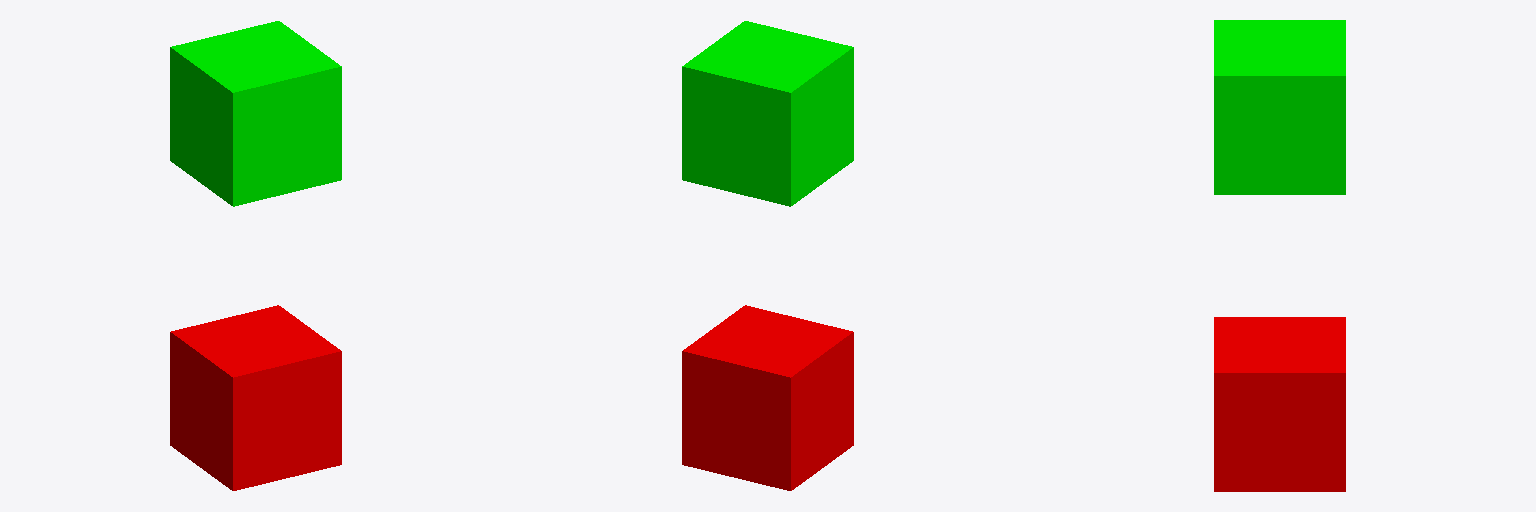
The robot description file, URDF, robot "prismatic_spring_test":
<?xml version="1.0"?>

<robot name="prismatic_spring_test">

  <link name="base">
    <inertial>
      <mass value="10" />
      <inertia ixx="1" ixy="0" ixz="0" iyy="1" iyz="0" izz="0.083" />
    </inertial>
    <visual>
      <geometry>
         <box size=".2 .2 .2" />
      </geometry>
      <material name="green">
      	<color rgba="0 1 0 1" />
      </material>
    </visual>
  </link>

  <link name="pendulum">
    <inertial>
      <origin xyz="0 0 -1" rpy="0 0 0" />
      <mass value="1" />
      <inertia ixx="0" ixy="0" ixz="0" iyy="0" iyz="0" izz="0" />
    </inertial>
    <visual>
      <origin xyz="0 0 -.5" rpy="0 0 0" />
      <geometry>
         <box size=".2 .2 .2" />
      </geometry>
      <material name="red">
	      <color rgba="1 0 0 1" />
      </material>
    </visual>
  </link>

  <joint name="shoulder" type="prismatic">
    <parent link="base" />
    <child link="pendulum" />
    <origin xyz="0 0 0" />
    <axis xyz="0 0 1" />
    <dynamics damping="1" />
  </joint>

  <force_element name="spring">
    <prismatic_spring stiffness="10" rest_angle="pi/2">
      <joint name="shoulder" />
    </prismatic_spring>
  </force_element>

</robot>

--- Facts derived from the render (not from the file) ---
3 views of the same robot in one strip: view 1: azimuth 30°, elevation 25°; view 2: azimuth 150°, elevation 25°; view 3: azimuth 270°, elevation 25° (orthographic).
Robot: prismatic_spring_test — 2 links, 1 joints (1 prismatic); root link base; default pose: every joint at zero.
Visible links, largest first — view 1: base, pendulum; view 2: base, pendulum; view 3: base, pendulum.
Link boxes in pixels (<box>): base: <box>170,21,341,206</box>; pendulum: <box>170,305,341,490</box>; base: <box>682,21,853,206</box>; pendulum: <box>682,305,853,490</box>; base: <box>1214,20,1345,194</box>; pendulum: <box>1214,317,1345,491</box>.
Bounding box of the posed robot: 0.2 × 0.2 × 0.7 m (x, y, z).
Geometry: primitives only (box / cylinder / sphere), no mesh files.